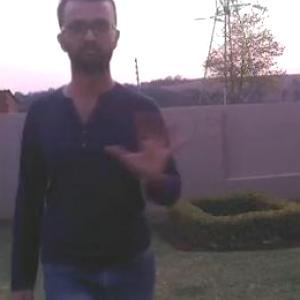follow_hand: (105, 105, 194, 180)
